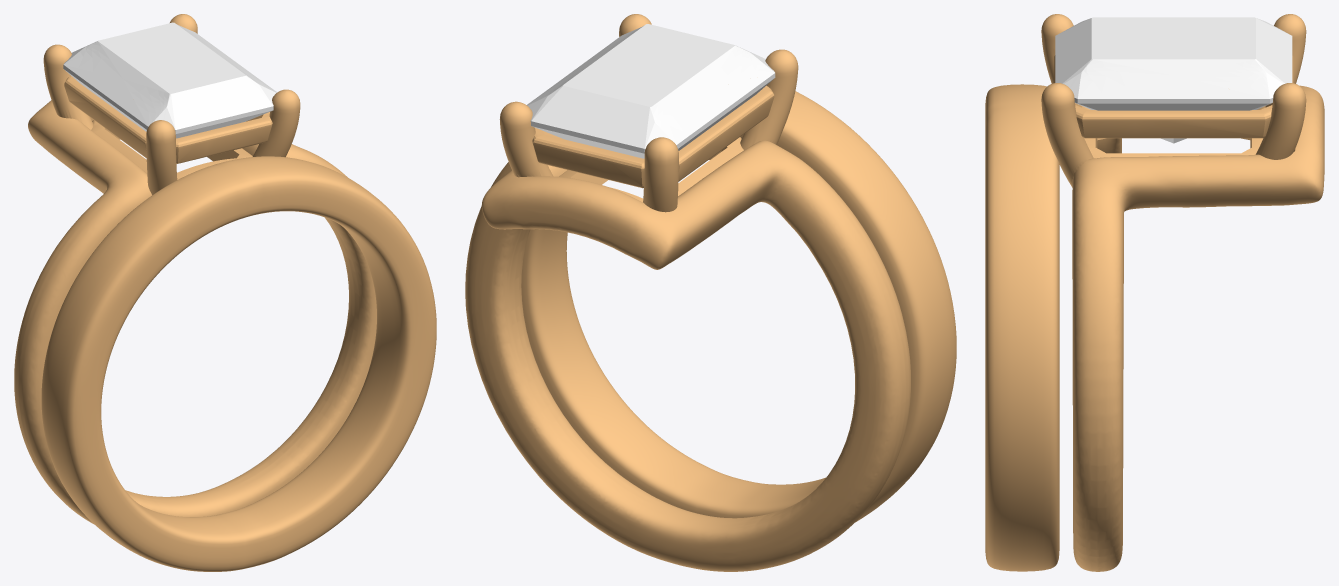
3 renders of one model, left to right at view 1: azimuth 30°, elevation 25°; view 2: azimuth 150°, elevation 25°; view 3: azimuth 270°, elevation 25°, orthographic. The views are drawn at different scales.
Bounding box in the file's own units: 2.38 × 2.75 × 1.66.
